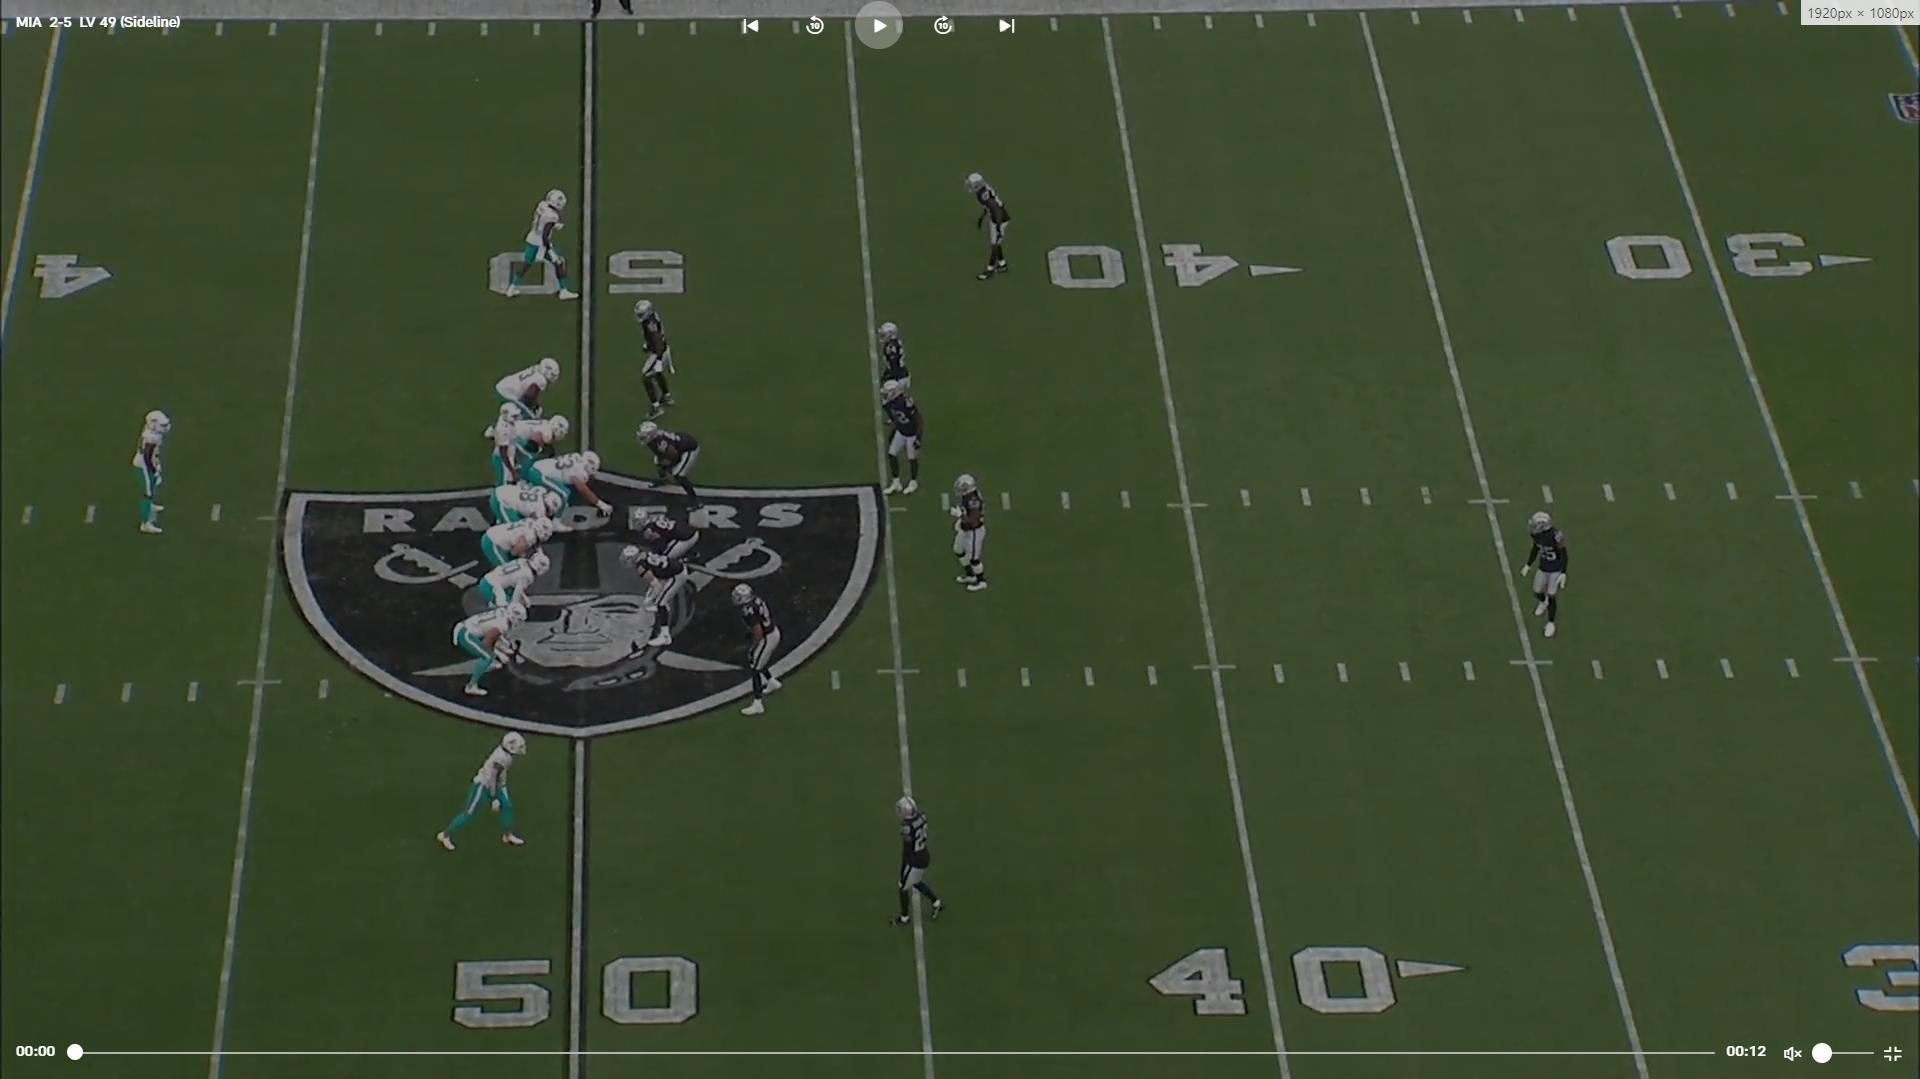defense: (882, 789, 948, 933), (724, 579, 781, 722), (620, 538, 694, 646), (1524, 510, 1576, 648), (634, 422, 707, 508), (945, 471, 993, 600), (633, 301, 682, 425), (877, 375, 926, 499), (622, 505, 700, 580), (964, 169, 1011, 288), (872, 319, 911, 413)
oline: (476, 513, 558, 592), (531, 447, 615, 524), (491, 357, 567, 438), (501, 414, 576, 488), (491, 479, 567, 525)
qb: (483, 410, 549, 493)
skill: (433, 725, 539, 857), (454, 591, 531, 702), (127, 400, 179, 542), (512, 186, 579, 292), (479, 550, 554, 634)
